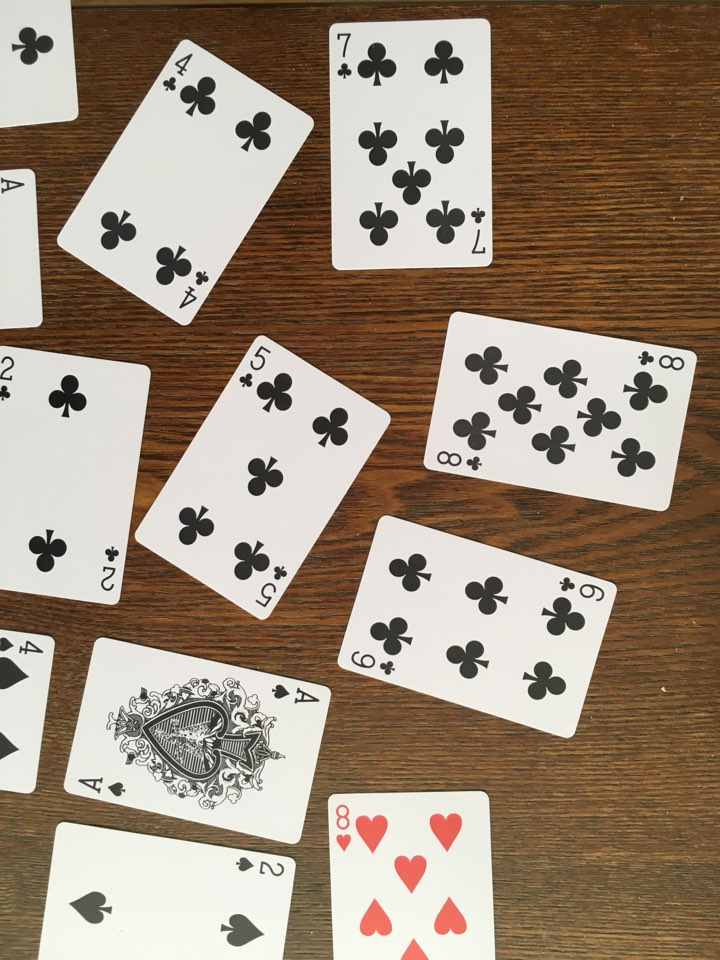ace: (60, 636, 339, 845), (1, 165, 47, 337)
